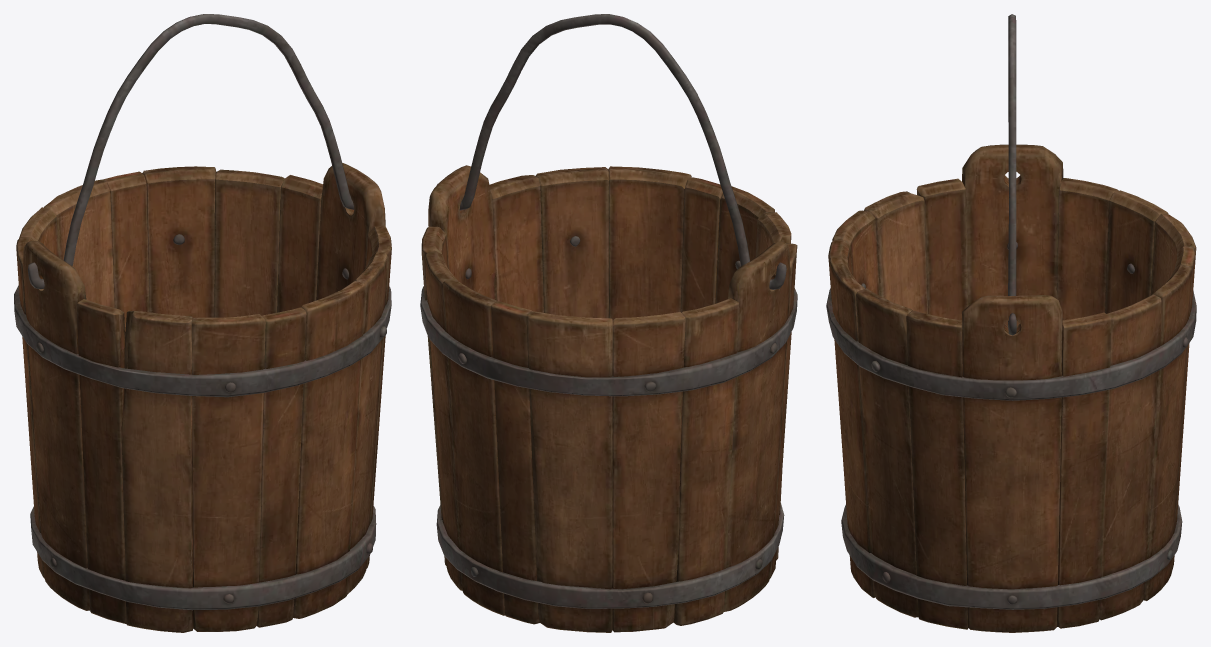
The model's file is wooden_bucket_01.glb.
3 views of the same model, side by side, from view 1: azimuth 30°, elevation 25°; view 2: azimuth 150°, elevation 25°; view 3: azimuth 270°, elevation 25° (orthographic).
Visible parts, largest first — view 1: wooden_bucket_01, wooden_bucket_01_handle; view 2: wooden_bucket_01, wooden_bucket_01_handle; view 3: wooden_bucket_01, wooden_bucket_01_handle.
Boxes of the visible parts, x1=… form: wooden_bucket_01: x1=14, y1=163, x2=391, y2=632; wooden_bucket_01_handle: x1=27, y1=14, x2=354, y2=289; wooden_bucket_01: x1=420, y1=165, x2=797, y2=632; wooden_bucket_01_handle: x1=437, y1=14, x2=786, y2=289; wooden_bucket_01: x1=826, y1=144, x2=1196, y2=632; wooden_bucket_01_handle: x1=1008, y1=14, x2=1016, y2=335.
Bounding box in the file's own units: 0.367 × 0.5499 × 0.3422.
Materials: 1 (1 with a texture image).
